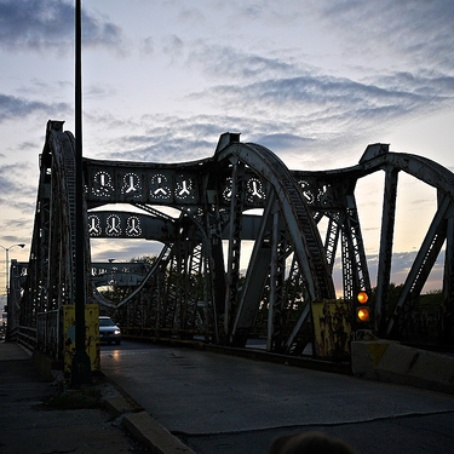bridge: (14, 154, 454, 454)
car: (92, 315, 124, 346)
sky: (14, 1, 454, 152)
